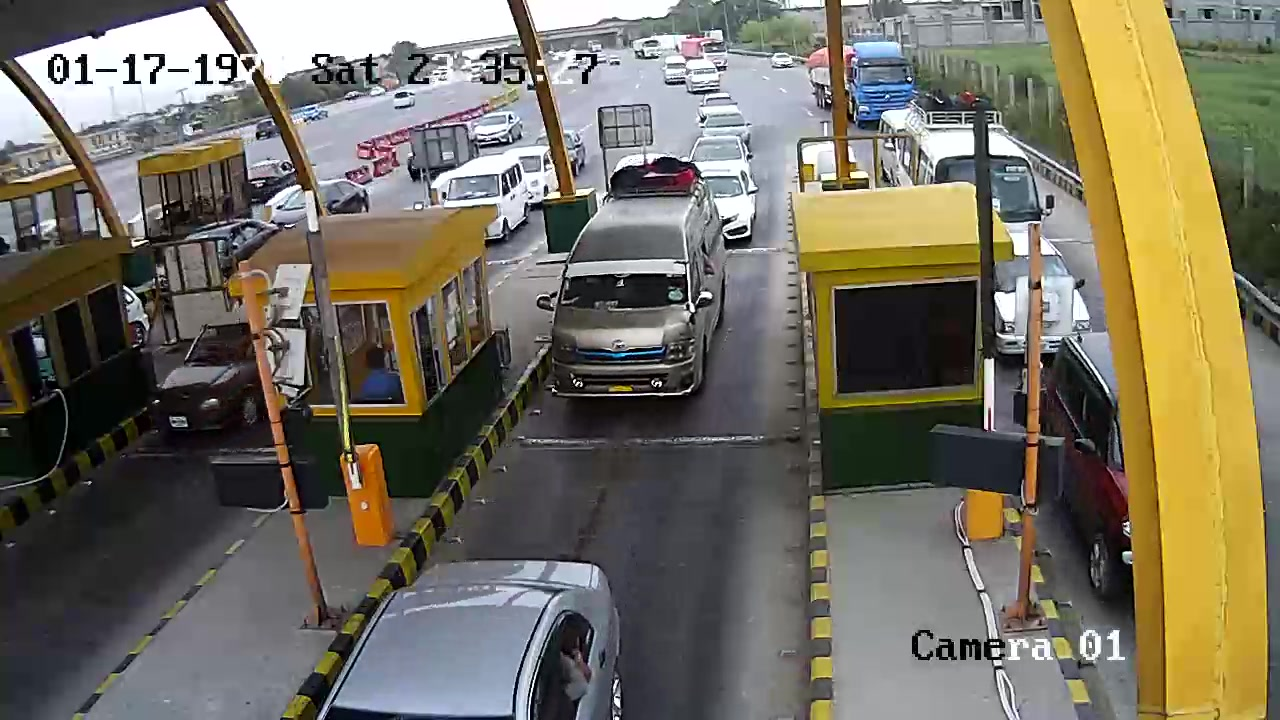F2: (544, 155, 722, 416)
